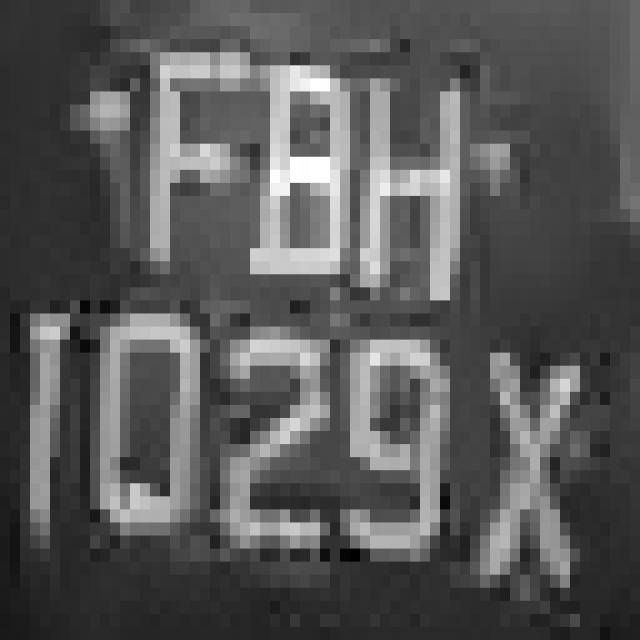0: (80, 261, 210, 549)
1: (10, 300, 80, 640)
2: (200, 274, 320, 627)
9: (330, 300, 460, 575)
B: (220, 13, 360, 353)
F: (110, 13, 250, 274)
H: (330, 66, 500, 327)
X: (450, 313, 600, 601)
